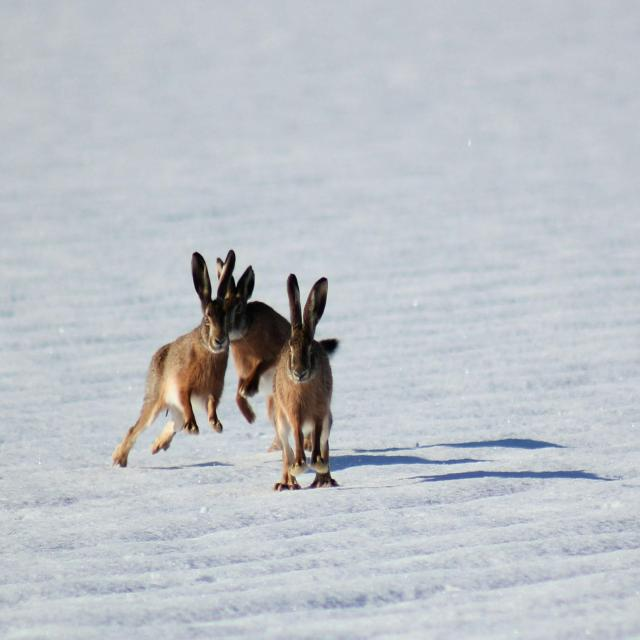Hare: (107, 248, 236, 472)
